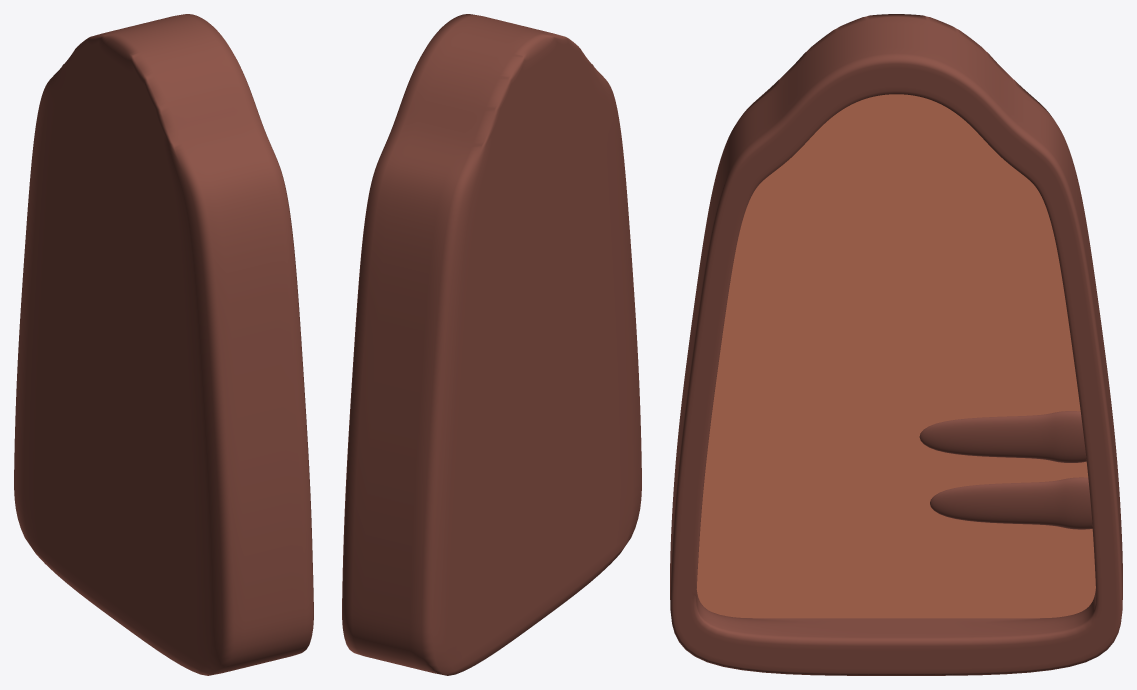
The model's file is door.fbx.
3 renders of one model, left to right at view 1: azimuth 30°, elevation 25°; view 2: azimuth 150°, elevation 25°; view 3: azimuth 270°, elevation 25°, orthographic. The views are drawn at different scales.
Parts seen in each view (by area): view 1: Cube.005; view 2: Cube.005; view 3: Cube.005.
Boxes of the visible parts, bbox=[...] form: Cube.005: bbox=[14, 14, 313, 675]; Cube.005: bbox=[342, 14, 641, 675]; Cube.005: bbox=[670, 14, 1122, 675].
Bounding box in the file's own units: 50 × 299 × 199.
